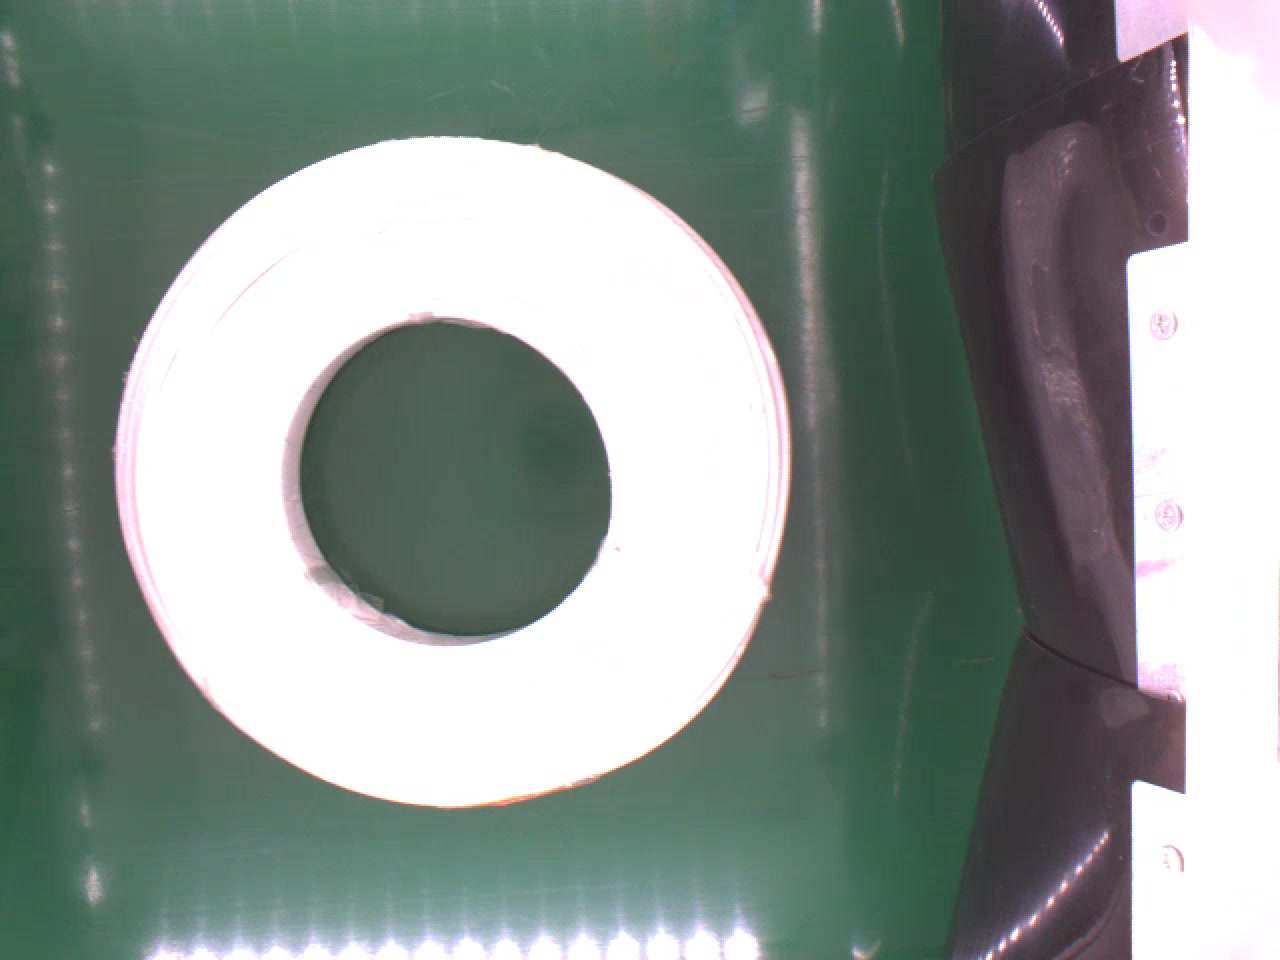white: (114, 131, 800, 818)
